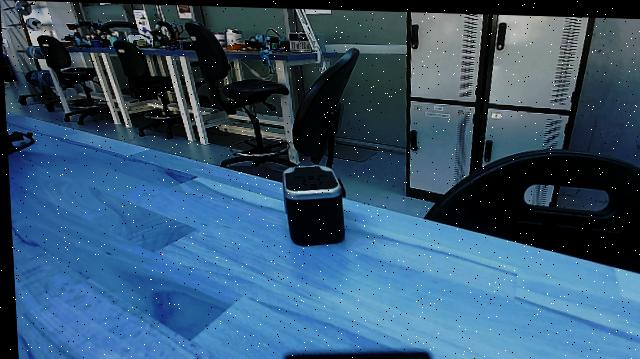adapter: (273, 159, 347, 247)
